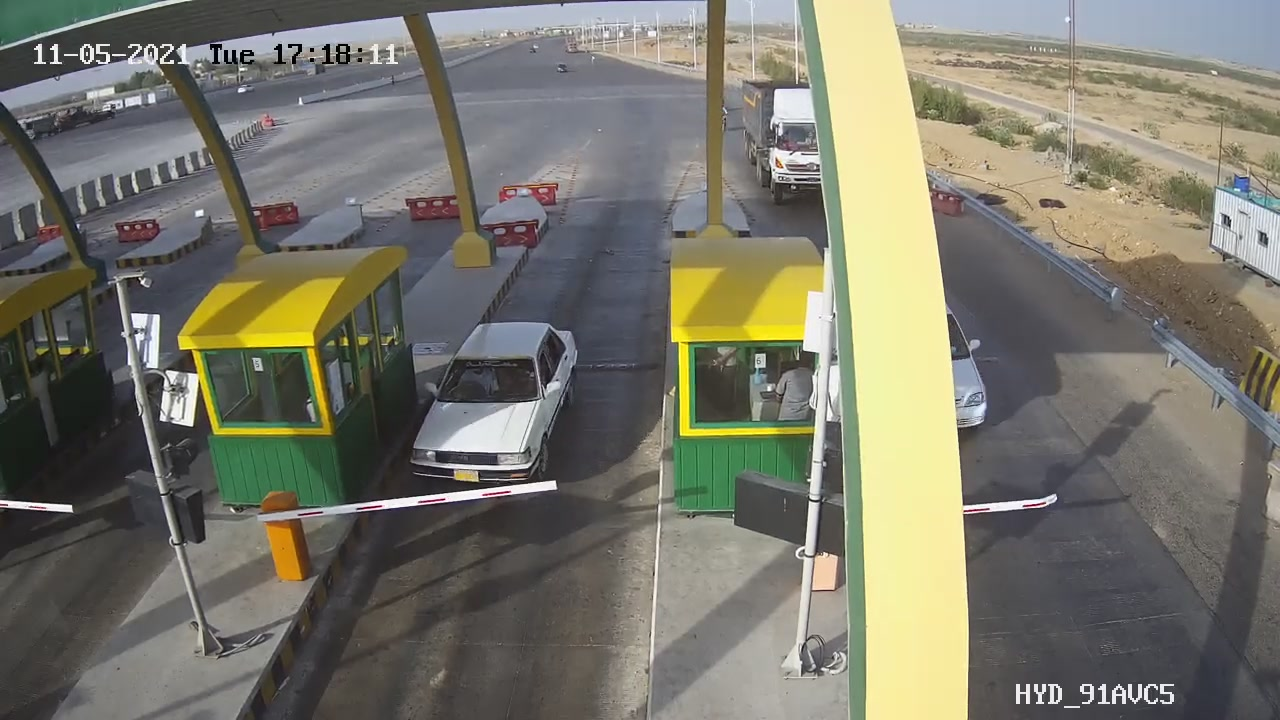F1: (394, 307, 600, 503)
